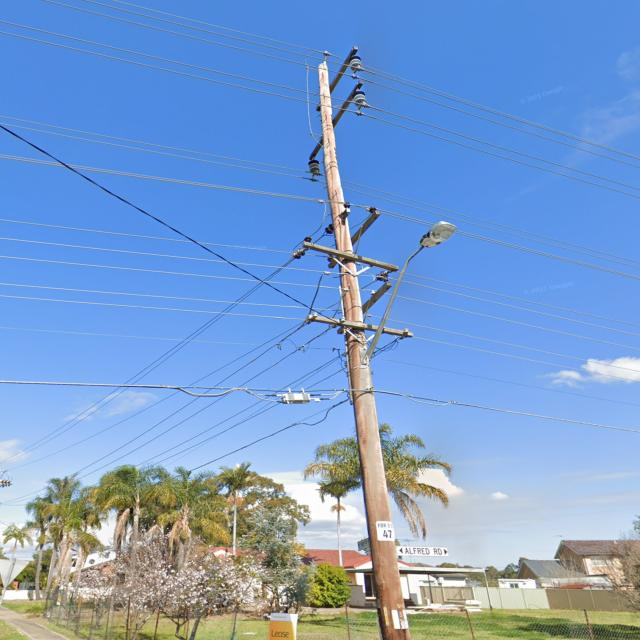HV-transmission: (307, 50, 370, 179), (294, 201, 392, 282)
crossarm: (308, 80, 366, 161), (327, 211, 379, 269), (314, 46, 358, 110), (337, 282, 388, 335), (303, 241, 396, 269), (307, 314, 412, 338)
streetlight: (366, 220, 456, 362)
timber-pole: (318, 62, 411, 640)
